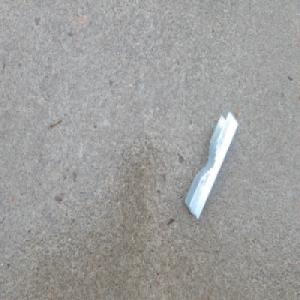ClampPart: (184, 111, 239, 221)
